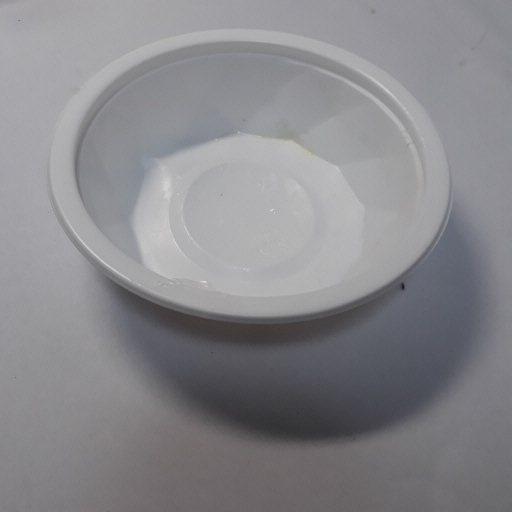Plastic_5: (53, 27, 452, 340)
